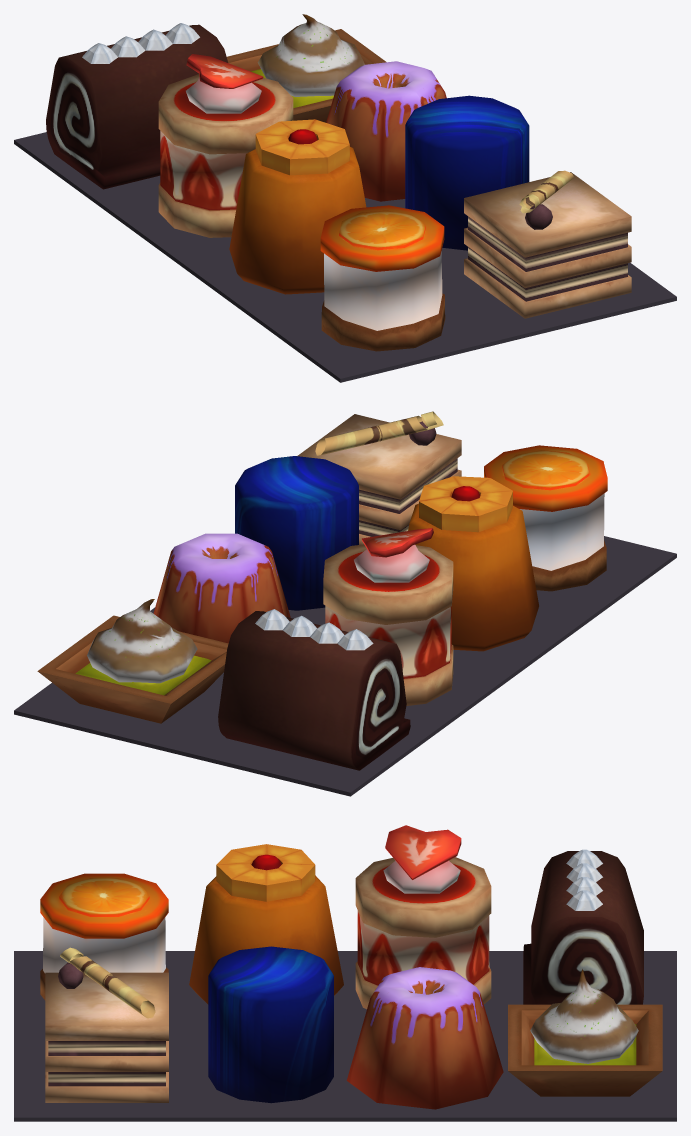
The model's file is low-poly-dessert-platter-e2315d.glb.
3 views of the same model, one above another, from view 1: azimuth 30°, elevation 25°; view 2: azimuth 150°, elevation 25°; view 3: azimuth 270°, elevation 25° (orthographic).
Visible parts, largest first — view 1: PropMesh; view 2: PropMesh; view 3: PropMesh.
Boxes of the visible parts, left/top/right/bottom form: PropMesh: left=14, top=14, right=676, bottom=382; PropMesh: left=14, top=411, right=676, bottom=796; PropMesh: left=14, top=825, right=676, bottom=1121.
Bounding box in the file's own units: 0.2738 × 0.12 × 0.46.
15 materials, 14 textured.
